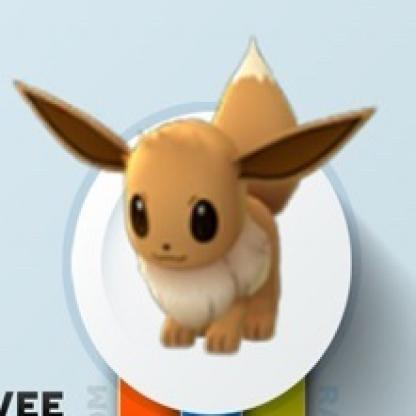Eevee: (17, 48, 355, 354)
